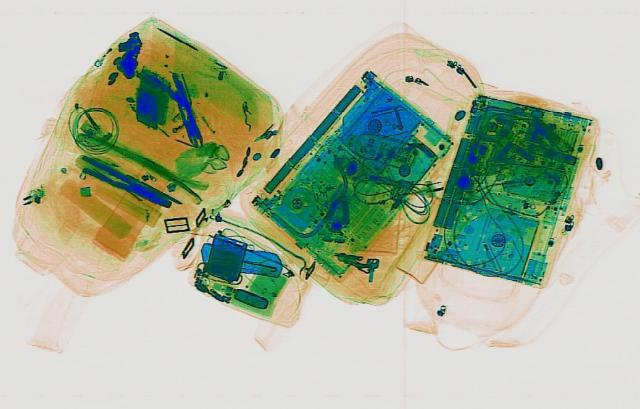Pliers: (68, 154, 180, 209)
